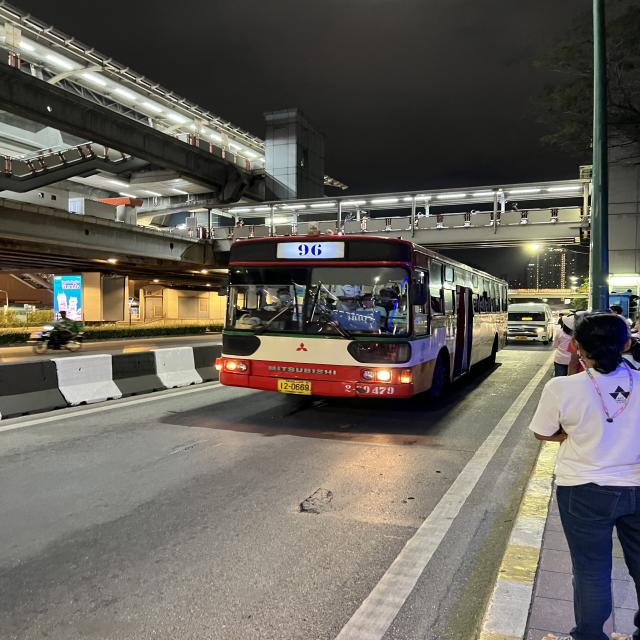BMTA-bus: (216, 233, 510, 404)
Bus Line Number: (278, 240, 346, 259)
Bus Side Number: (341, 383, 397, 400)
Destination Sign: (332, 309, 382, 331)
